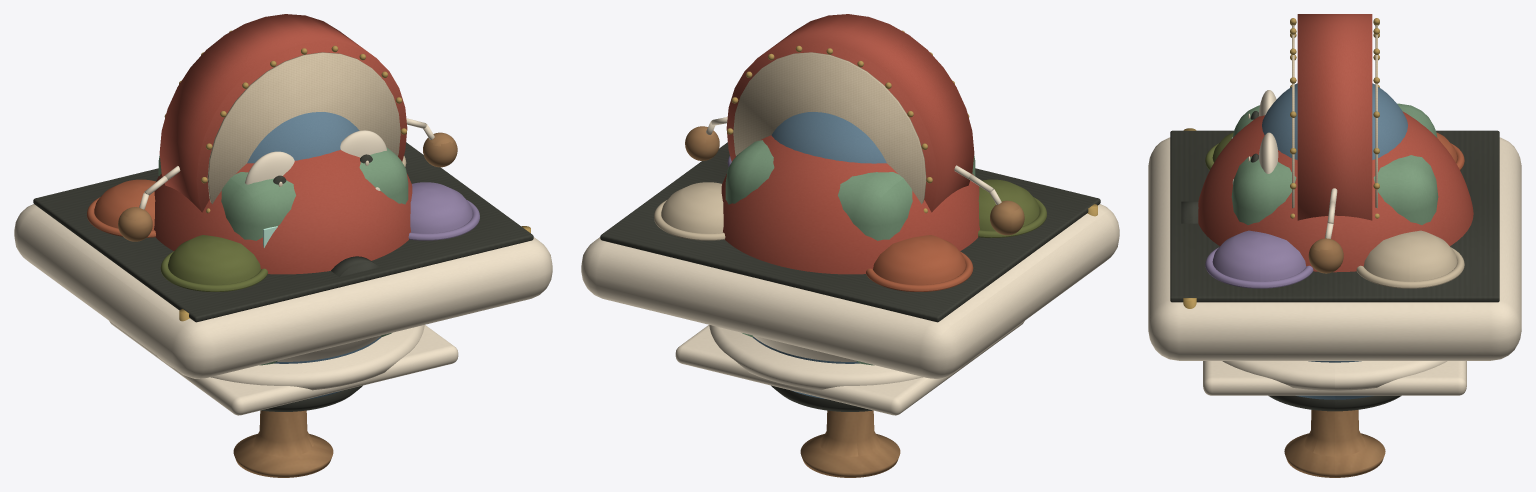
File: tidy-playthings.glb
3 renders of one model, left to right at view 1: azimuth 30°, elevation 25°; view 2: azimuth 150°, elevation 25°; view 3: azimuth 270°, elevation 25°, orthographic.
Visible parts, largest first — view 1: popboard_mesh, rattle_mesh, pokeball_lid_mesh, tumbler_body_mesh, jelly_soft_mesh, mochi_mesh, jelly_mesh, popboard_3_mesh, popboard_5_mesh, pokeball_mesh, popboard_0_mesh, rattle_left_mesh (+1 smaller); view 2: popboard_mesh, rattle_mesh, pokeball_lid_mesh, jelly_soft_mesh, mochi_mesh, jelly_mesh, tumbler_body_mesh, popboard_0_mesh, popboard_2_mesh, pokeball_mesh, popboard_3_mesh, rattle_left_mesh (+1 smaller); view 3: popboard_mesh, rattle_mesh, pokeball_lid_mesh, jelly_soft_mesh, jelly_mesh, tumbler_body_mesh, mochi_mesh, popboard_2_mesh, popboard_5_mesh, pokeball_mesh, rattle_right_mesh.
Part boxes in pixels (x1,y1,x2,y2): popboard_mesh: [14, 142, 552, 378]; rattle_mesh: [159, 14, 407, 477]; pokeball_lid_mesh: [154, 149, 412, 274]; tumbler_body_mesh: [245, 112, 386, 399]; jelly_soft_mesh: [158, 147, 408, 365]; mochi_mesh: [157, 325, 424, 390]; jelly_mesh: [109, 321, 458, 415]; popboard_3_mesh: [168, 235, 260, 284]; popboard_5_mesh: [410, 182, 472, 233]; pokeball_mesh: [261, 256, 380, 411]; popboard_0_mesh: [94, 179, 155, 230]; rattle_left_mesh: [118, 166, 180, 241]; popboard_mesh: [581, 142, 1119, 378]; rattle_mesh: [726, 14, 974, 477]; pokeball_lid_mesh: [721, 135, 979, 274]; jelly_soft_mesh: [725, 140, 975, 365]; mochi_mesh: [709, 325, 976, 390]; jelly_mesh: [675, 321, 1024, 415]; tumbler_body_mesh: [753, 112, 886, 399]; popboard_0_mesh: [873, 235, 965, 284]; popboard_2_mesh: [661, 182, 723, 233]; pokeball_mesh: [753, 335, 872, 411]; popboard_3_mesh: [978, 179, 1039, 230]; rattle_left_mesh: [954, 165, 1024, 235]; popboard_mesh: [1148, 128, 1521, 360]; rattle_mesh: [1284, 14, 1385, 477]; pokeball_lid_mesh: [1198, 111, 1473, 272]; jelly_soft_mesh: [1231, 103, 1438, 224]; jelly_mesh: [1203, 361, 1466, 395]; tumbler_body_mesh: [1248, 83, 1407, 399]; mochi_mesh: [1222, 361, 1447, 390]; popboard_2_mesh: [1363, 230, 1457, 281]; popboard_5_mesh: [1212, 230, 1306, 281]; pokeball_mesh: [1181, 201, 1401, 411]; rattle_right_mesh: [1308, 188, 1343, 273].
Bounding box in the file's own units: 0.2 × 0.217 × 0.17.
18 materials, 17 textured.
